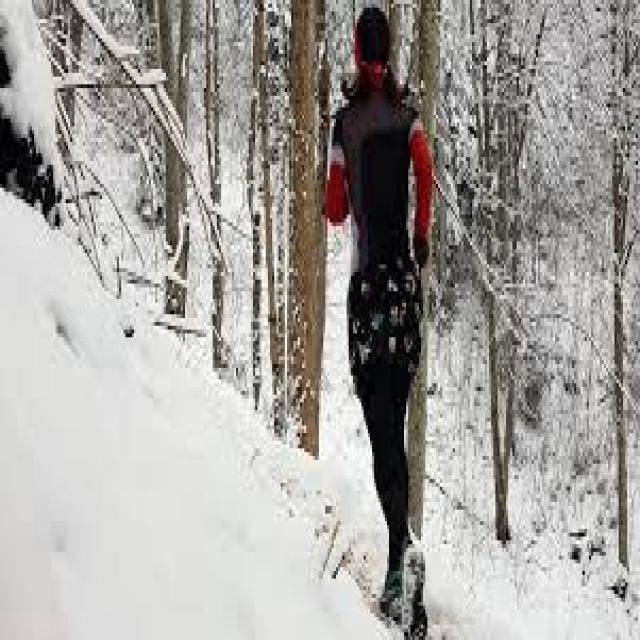running: (323, 0, 432, 640)
